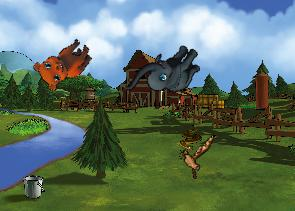bear: (28, 27, 97, 97)
eagle: (175, 130, 216, 181)
elephant: (123, 28, 207, 116)
